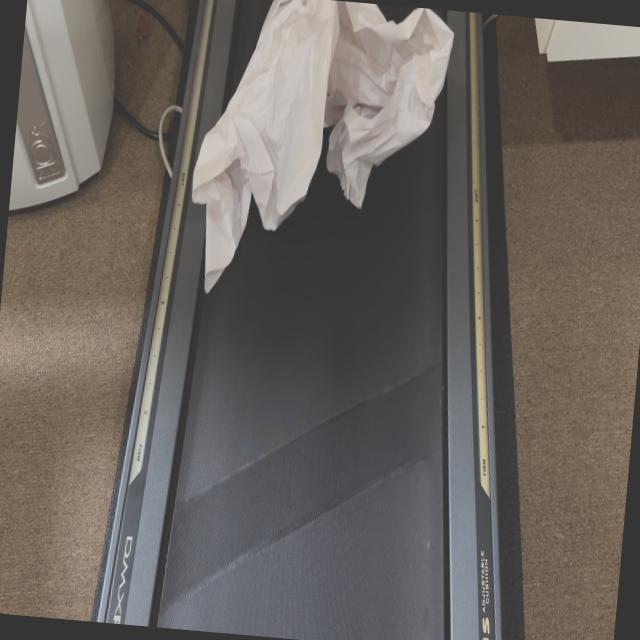Trash: (214, 0, 444, 314)
